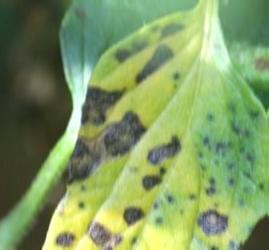Tomato Septoria leaf spot: (15, 11, 269, 250)
